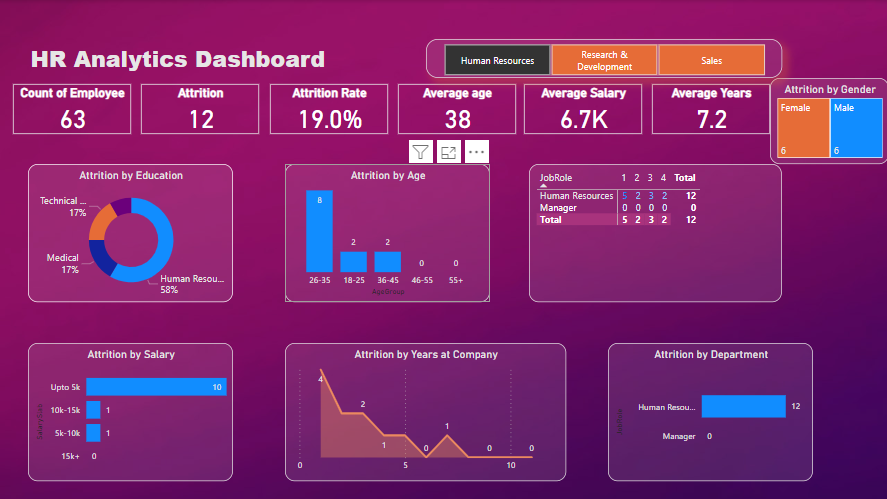

The page's visual inventory and layout, read from the dashboard file:
{"tool":"powerbi","page":{"name":"Page 1","canvas":[1280,720],"ordinal":0},"visuals":[{"type":"card","title":"Count of Employee","fields":{"Values":["CountNonNull(HR_Analytics.EmpID)"]},"box":[18.5,121,169.9,72],"z":0},{"type":"card","title":"Attrition","fields":{"Values":["Sum(HR_Analytics.AttritionCount )"]},"box":[202.9,121,169.9,72],"z":1000},{"type":"card","title":"Attrition Rate","fields":{"Values":["HR_Analytics.Attrition Rate"]},"box":[388.6,121,169.9,72],"z":2000},{"type":"card","title":"Average age","fields":{"Values":["Avg(HR_Analytics.Age)"]},"box":[572.9,121,169.9,72],"z":3000},{"type":"card","title":"Average Salary","fields":{"Values":["Avg(HR_Analytics.MonthlyIncome)"]},"box":[754.4,121,169.9,72],"z":4000},{"type":"card","title":"Average Years","fields":{"Values":["Avg(HR_Analytics.YearsAtCompany)"]},"box":[938.7,121,169.9,72],"z":5000},{"type":"donutChart","title":"Attrition by Education","fields":{"Category":["HR_Analytics.EducationField"],"Y":["Sum(HR_Analytics.AttritionCount )"]},"box":[40.1,236.2,295.2,198.7],"z":6000},{"type":"columnChart","title":"Attrition by Age","fields":{"Category":["HR_Analytics.AgeGroup"],"Y":["Sum(HR_Analytics.AttritionCount )"]},"box":[410.2,236.2,295.2,198.7],"z":7000},{"type":"pivotTable","fields":{"Rows":["HR_Analytics.JobRole"],"Columns":["HR_Analytics.JobSatisfaction"],"Values":["Sum(HR_Analytics.AttritionCount )"]},"box":[761.8,236.2,364.3,198.7],"z":8000},{"type":"barChart","title":"Attrition by Salary","fields":{"Category":["HR_Analytics.SalarySlab"],"Y":["Sum(HR_Analytics.AttritionCount )"]},"box":[40.1,493.9,295.2,198.7],"z":9000},{"type":"barChart","title":"Attrition by Department","fields":{"Y":["Sum(HR_Analytics.AttritionCount )"],"Category":["HR_Analytics.JobRole"]},"box":[875.3,493.9,295.2,198.7],"z":10000},{"type":"areaChart","title":"Attrition by Years at Company","fields":{"Category":["HR_Analytics.YearsAtCompany"],"Y":["Sum(HR_Analytics.AttritionCount )"]},"box":[410.2,493.9,404.6,198.7],"z":11000},{"type":"treemap","title":"Attrition by Gender","fields":{"Group":["HR_Analytics.Gender"],"Values":["Sum(HR_Analytics.AttritionCount )"]},"box":[1108.8,112.3,171.4,123.8],"z":12000},{"type":"slicer","fields":{"Values":["HR_Analytics.Department"]},"box":[613.4,56.2,512.6,56.2],"z":13000},{"type":"textbox","box":[38.9,56.2,459.4,56.2],"z":14000}]}

Visuals, with their boxes in screenshot pixels (x1, y1, x2, y2), scaled from the page's 1280x720 canvas onto the 887x499 screenshot:
"Count of Employee" card: bbox(13, 84, 131, 134)
"Attrition" card: bbox(141, 84, 258, 134)
"Attrition Rate" card: bbox(269, 84, 387, 134)
"Average age" card: bbox(397, 84, 515, 134)
"Average Salary" card: bbox(523, 84, 641, 134)
"Average Years" card: bbox(650, 84, 768, 134)
"Attrition by Education" donutChart: bbox(28, 164, 232, 301)
"Attrition by Age" columnChart: bbox(284, 164, 489, 301)
pivotTable - HR_Analytics.JobRole x HR_Analytics.JobSatisfaction: bbox(528, 164, 780, 301)
"Attrition by Salary" barChart: bbox(28, 342, 232, 480)
"Attrition by Department" barChart: bbox(607, 342, 811, 480)
"Attrition by Years at Company" areaChart: bbox(284, 342, 565, 480)
"Attrition by Gender" treemap: bbox(768, 78, 886, 164)
slicer - HR_Analytics.Department: bbox(425, 39, 780, 78)
textbox: bbox(27, 39, 345, 78)
